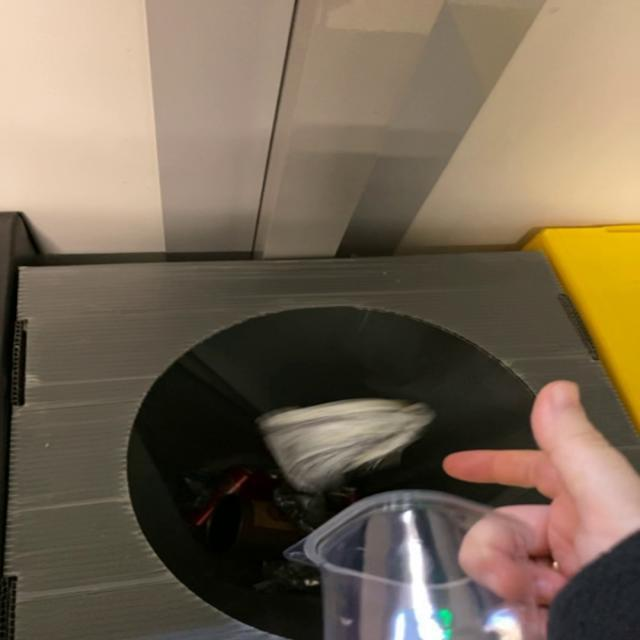Bin: (4, 252, 639, 640), (5, 252, 639, 640)
Metal: (256, 399, 437, 494)
